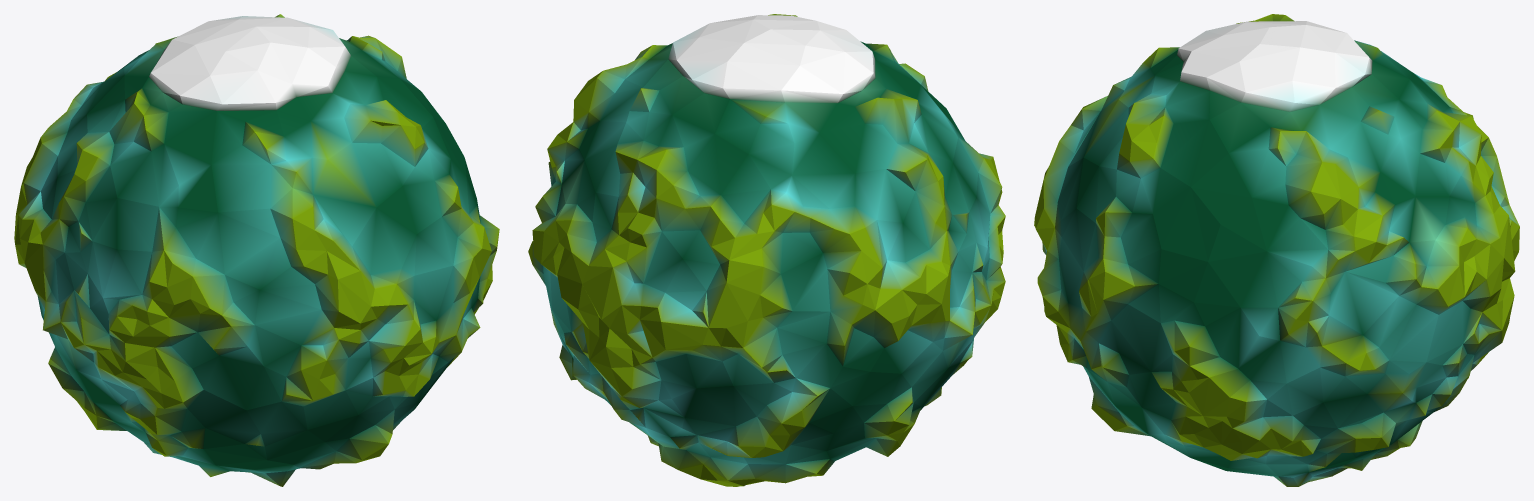
The model's file is planet_90.fbx.
3 views of the same model, side by side, from view 1: azimuth 30°, elevation 25°; view 2: azimuth 150°, elevation 25°; view 3: azimuth 270°, elevation 25° (orthographic).
Visible parts, largest first — view 1: file1; view 2: file1; view 3: file1.
Part boxes in pixels (<box>): file1: <box>14,14,499,486</box>; file1: <box>528,14,1005,486</box>; file1: <box>1034,14,1519,486</box>.
Size of the model in its own units: 2.13 by 2.07 by 2.16.
